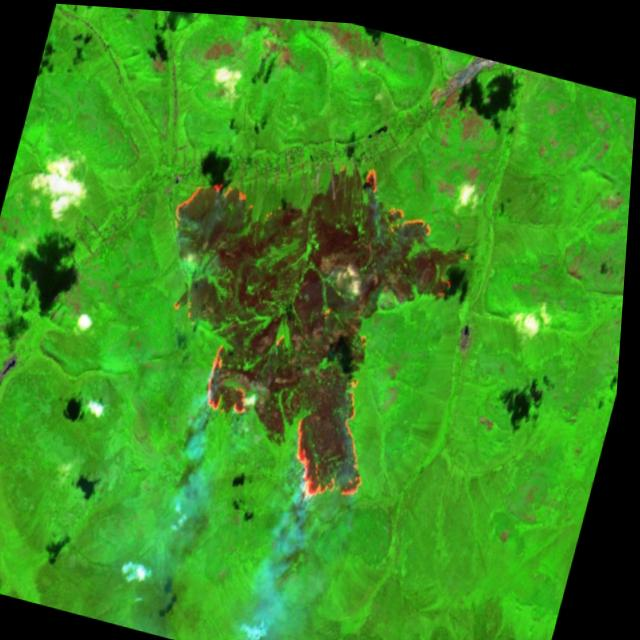fire: (112, 111, 493, 526)
